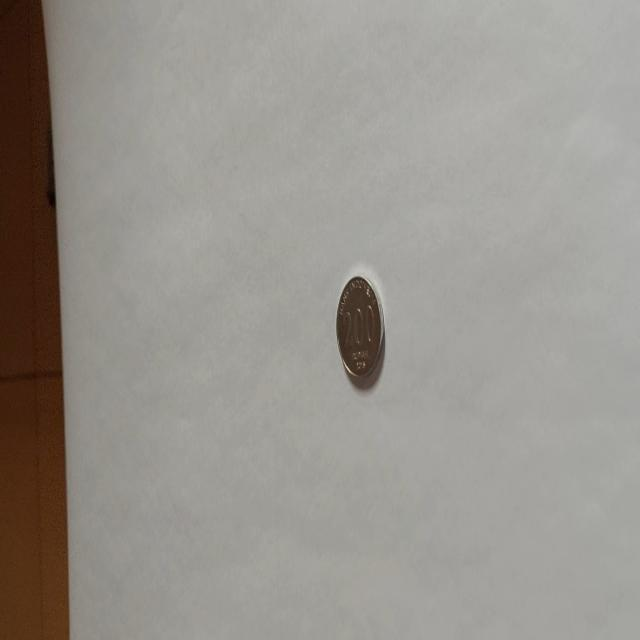dua ratus rupiah: (335, 272, 385, 382)
